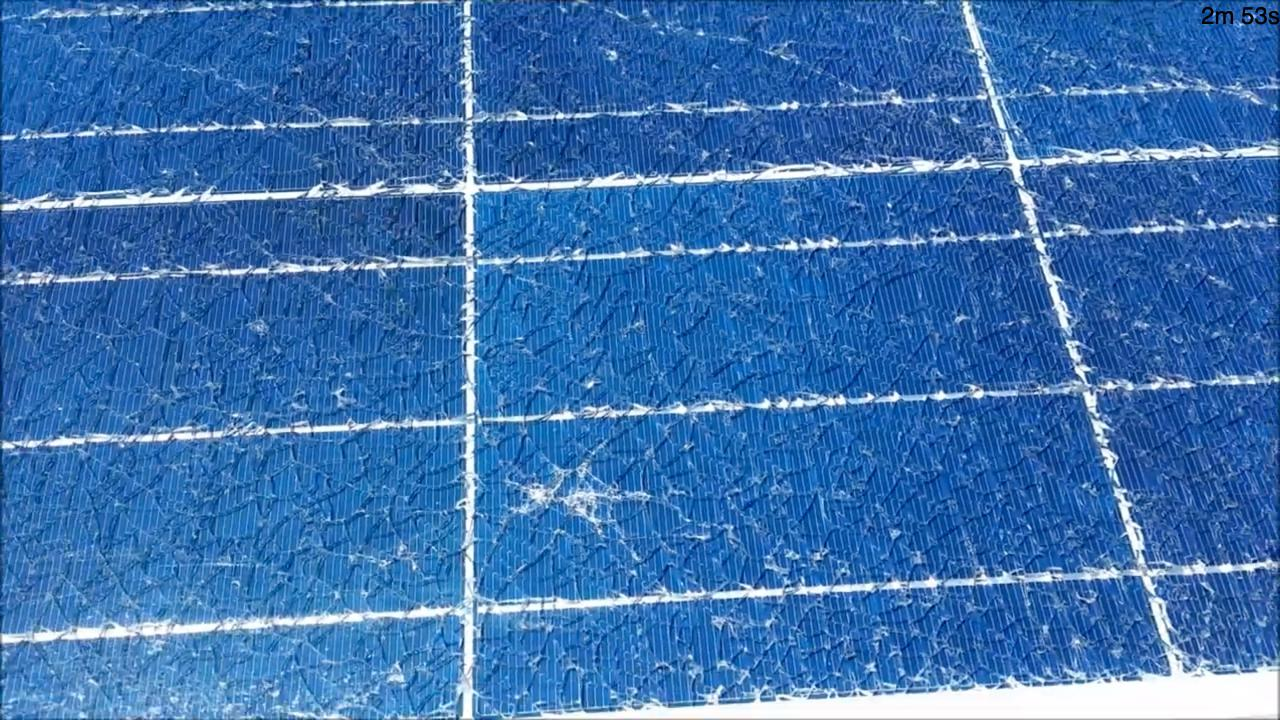Crack: (730, 320, 1273, 691), (0, 286, 458, 718), (471, 5, 1013, 295), (17, 0, 462, 268), (570, 9, 900, 128), (1012, 25, 1280, 146), (485, 413, 683, 576)
